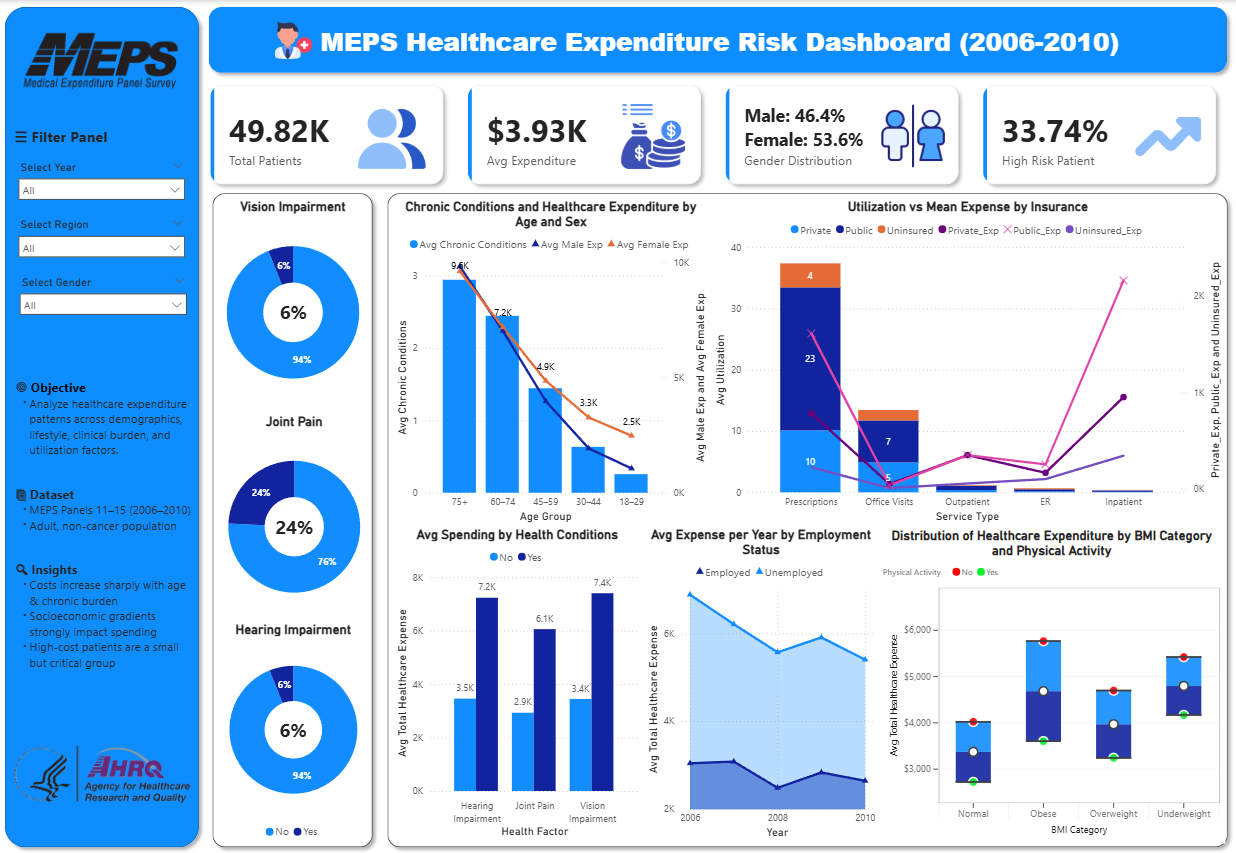

What the dashboard file says about the page in this screenshot:
{"tool":"powerbi","page":{"name":"Page 1","canvas":[1600,1100],"ordinal":0},"visuals":[{"type":"cardVisual","fields":{"Data":["MEPS_Final.Total_Patients","MEPS_Final.Avg_Expenditure","MEPS_Final.Sex_Distribution","MEPS_Final.High_Risk_Pct"]},"box":[244.9,80.6,1354.9,186.9],"z":0},{"type":"shape","box":[262.6,0,1330.4,102.6],"z":1000},{"type":"shape","box":[0,0,267.8,1100.9],"z":2000},{"type":"textbox","box":[278.7,25.8,1303.3,54.8],"z":3000},{"type":"textbox","box":[16.7,157.4,138.9,37],"z":4000},{"type":"textbox","box":[17.7,483.3,236.8,436.6],"z":5000},{"type":"slicer","fields":{"Values":["MEPS_Final.BEGRFY1"]},"box":[16.3,200.9,234.8,76.5],"z":6000},{"type":"slicer","fields":{"Values":["MEPS_Final.Region_Label"]},"box":[16.3,275.7,234.8,74.8],"z":7000},{"type":"image","box":[17.4,22.6,234.8,109.6],"z":8000},{"type":"image","box":[13.9,942.6,238.3,111.3],"z":9000},{"type":"image","box":[464.3,123.5,87,100.9],"z":10000},{"type":"image","box":[800,125.2,87,100.9],"z":11000},{"type":"image","box":[1135.7,125.2,87,99.1],"z":12000},{"type":"image","box":[1464.3,125.2,87,100.9],"z":13000},{"type":"shape","box":[267.8,240,224.3,860.9],"z":14000},{"type":"shape","box":[492.2,240,1100.9,860.9],"z":15000},{"type":"lineClusteredColumnComboChart","title":"Chronic Conditions and Healthcare Expenditure by Age and Sex","fields":{"Category":["MEPS_Final.Age_Group_Label"],"Y":["MEPS_Final.Avg_Chronic_Conditions"],"Y2":["MEPS_Final.Male_Exp","MEPS_Final.Female_Exp"]},"box":[507.8,255.7,410.4,422.6],"z":16000},{"type":"lineStackedColumnComboChart","title":"Utilization vs Mean Expense by Insurance","fields":{"Category":["MEPS_Util.Service_Label"],"Y":["MEPS_Util.Avg_Util"],"Series":["MEPS_Util.Insurance_Type"],"Y2":["MEPS_Util.Private_Exp","MEPS_Util.Public_Exp","MEPS_Util.Uninsured_Exp"]},"box":[918.3,256.2,663.7,422.1],"z":17000},{"type":"areaChart","title":"Avg Expense per Year by Employment Status","fields":{"Category":["MEPS_Final.BEGRFY1"],"Y":["Avg(MEPS_Final.TOTEXPY1_adj)"],"Series":["MEPS_Final.Employment_Status"]},"box":[831.3,678.2,304.5,407.6],"z":18000},{"type":"image","box":[356,27.4,49.9,49.9],"z":19000},{"type":"donutChart","title":"Joint Pain","fields":{"Y":["MEPS_Final.Total_Patients"],"Category":["MEPS_Final.Joint_Pain_Status"]},"box":[233.6,533.2,296.4,267.4],"z":20000},{"type":"donutChart","title":"Vision Impairment","fields":{"Y":["MEPS_Final.Total_Patients"],"Category":["MEPS_Final.Vision_Impairment"]},"box":[232,256.2,296.4,269],"z":21000},{"type":"donutChart","title":"Hearing Impairment","fields":{"Y":["MEPS_Final.Total_Patients"],"Category":["MEPS_Final.Hearing_Impairment"]},"box":[231.3,800,297.4,285.2],"z":22000},{"type":"textbox","box":[351.7,657.6,61,43.2],"z":23000},{"type":"textbox","box":[350,379.7,61.9,43.2],"z":24000},{"type":"textbox","box":[349.6,920,60.9,43.5],"z":25000},{"type":"clusteredColumnChart","title":"Avg Spending by Health Conditions","fields":{"Category":["MEPS_Final (2).Health_Factor_Label"],"Y":["Avg(MEPS_Final (2).TOTEXPY1)"],"Series":["MEPS_Final (2).Category_Label"]},"box":[507.5,678.2,323.8,406],"z":26000},{"type":"slicer","fields":{"Values":["MEPS_Final.SEX"]},"box":[17.7,349.6,235.2,75.7],"z":27000},{"type":"BoxandWhiskerByMAQ1823AD39DT234AB532063E128AX","title":"Distribution of Healthcare Expenditure by BMI Category and Physical Activity","fields":{"categoryGroup":["MEPS_Final.BMI_Category_Label"],"measure":["MEPS_Final.Avg_Expenditure"],"categoryColor":["MEPS_Final.Physical_Activity_Level"]},"box":[1135.8,679.9,444.6,407.6],"z":28001}]}

Visuals, with their boxes in screenshot pixels (x1, y1, x2, y2), scaled from the page's 1600x1100 canvas onto the 1236x853 screenshot:
cardVisual - MEPS_Final.Total_Patients x MEPS_Final.Avg_Expenditure: bbox=(189, 63, 1235, 207)
shape: bbox=(203, 0, 1231, 80)
shape: bbox=(0, 0, 207, 852)
textbox: bbox=(215, 20, 1222, 63)
textbox: bbox=(13, 122, 120, 151)
textbox: bbox=(14, 375, 197, 713)
slicer - MEPS_Final.BEGRFY1: bbox=(13, 156, 194, 215)
slicer - MEPS_Final.Region_Label: bbox=(13, 214, 194, 272)
image: bbox=(13, 18, 195, 103)
image: bbox=(11, 731, 195, 817)
image: bbox=(359, 96, 426, 174)
image: bbox=(618, 97, 685, 175)
image: bbox=(877, 97, 945, 174)
image: bbox=(1131, 97, 1198, 175)
shape: bbox=(207, 186, 380, 852)
shape: bbox=(380, 186, 1231, 852)
"Chronic Conditions and Healthcare Expenditure by Age and Sex" lineClusteredColumnComboChart: bbox=(392, 198, 709, 526)
"Utilization vs Mean Expense by Insurance" lineStackedColumnComboChart: bbox=(709, 199, 1222, 526)
"Avg Expense per Year by Employment Status" areaChart: bbox=(642, 526, 877, 842)
image: bbox=(275, 21, 314, 60)
"Joint Pain" donutChart: bbox=(180, 413, 409, 621)
"Vision Impairment" donutChart: bbox=(179, 199, 408, 407)
"Hearing Impairment" donutChart: bbox=(179, 620, 408, 842)
textbox: bbox=(272, 510, 319, 543)
textbox: bbox=(270, 294, 318, 328)
textbox: bbox=(270, 713, 317, 747)
"Avg Spending by Health Conditions" clusteredColumnChart: bbox=(392, 526, 642, 841)
slicer - MEPS_Final.SEX: bbox=(14, 271, 195, 330)
"Distribution of Healthcare Expenditure by BMI Category and Physical Activity" BoxandWhiskerByMAQ1823AD39DT234AB532063E128AX: bbox=(877, 527, 1221, 843)
